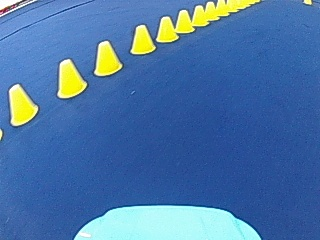cone: (6, 82, 38, 124), (55, 57, 87, 97), (93, 39, 122, 75), (129, 23, 156, 54), (155, 14, 177, 42), (174, 8, 193, 33), (191, 4, 206, 25), (203, 1, 217, 20), (215, 0, 227, 16)
